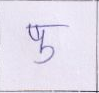u_matra: (35, 46, 55, 64)
